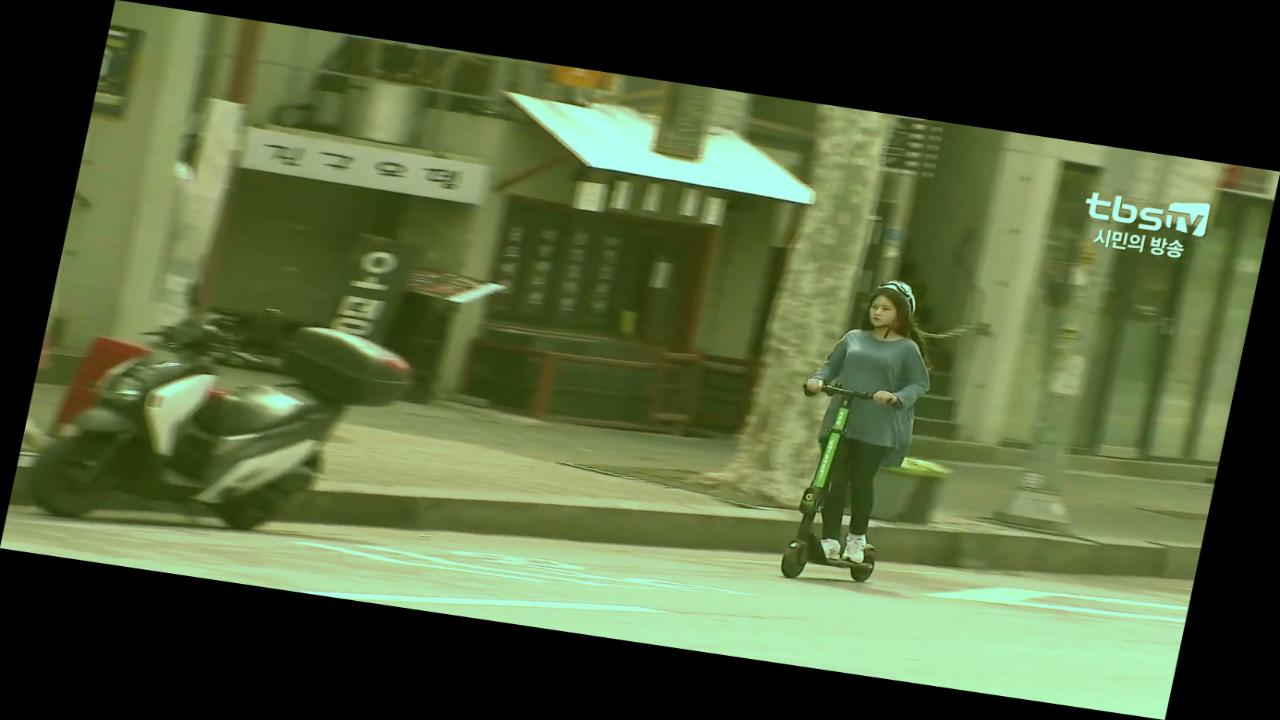helmet: (763, 268, 951, 595)
